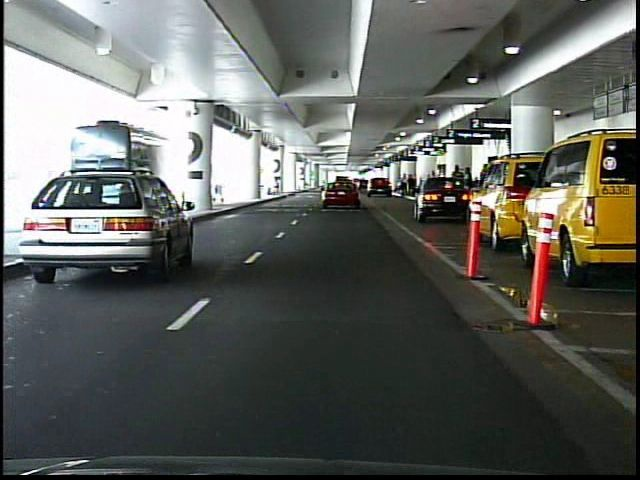person: (449, 163, 466, 209), (462, 165, 477, 209), (400, 172, 409, 196), (408, 173, 416, 196)
